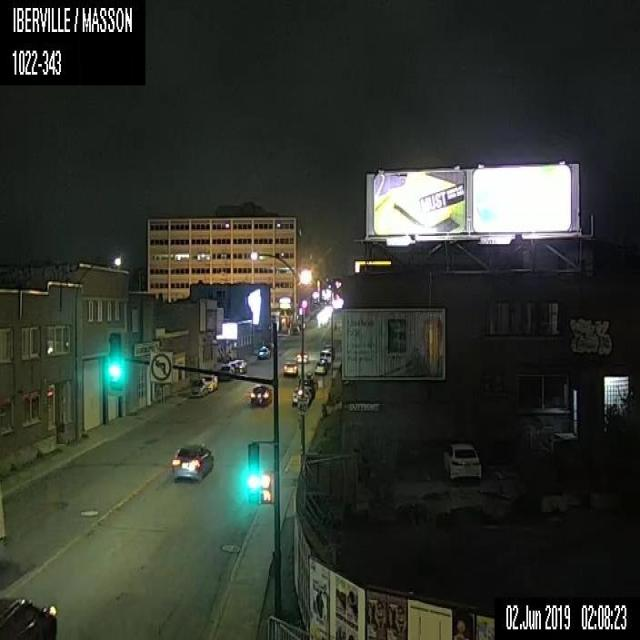vehicle: (0, 593, 57, 638), (170, 442, 214, 482), (442, 442, 482, 482), (248, 382, 272, 407), (290, 385, 312, 407), (186, 377, 207, 396), (297, 376, 315, 398), (200, 373, 218, 392), (282, 356, 298, 376), (218, 362, 234, 381), (256, 344, 271, 360), (318, 349, 331, 365), (314, 360, 326, 374), (235, 358, 247, 372), (296, 350, 308, 362)
